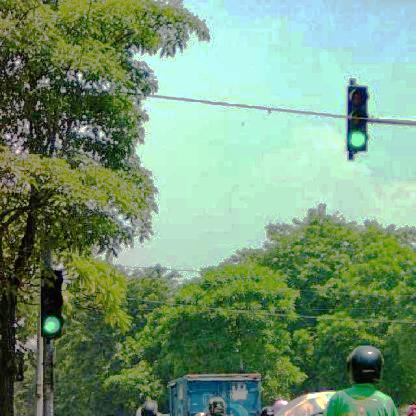Traffic Light -Green-: (41, 270, 62, 338), (348, 86, 368, 152)
